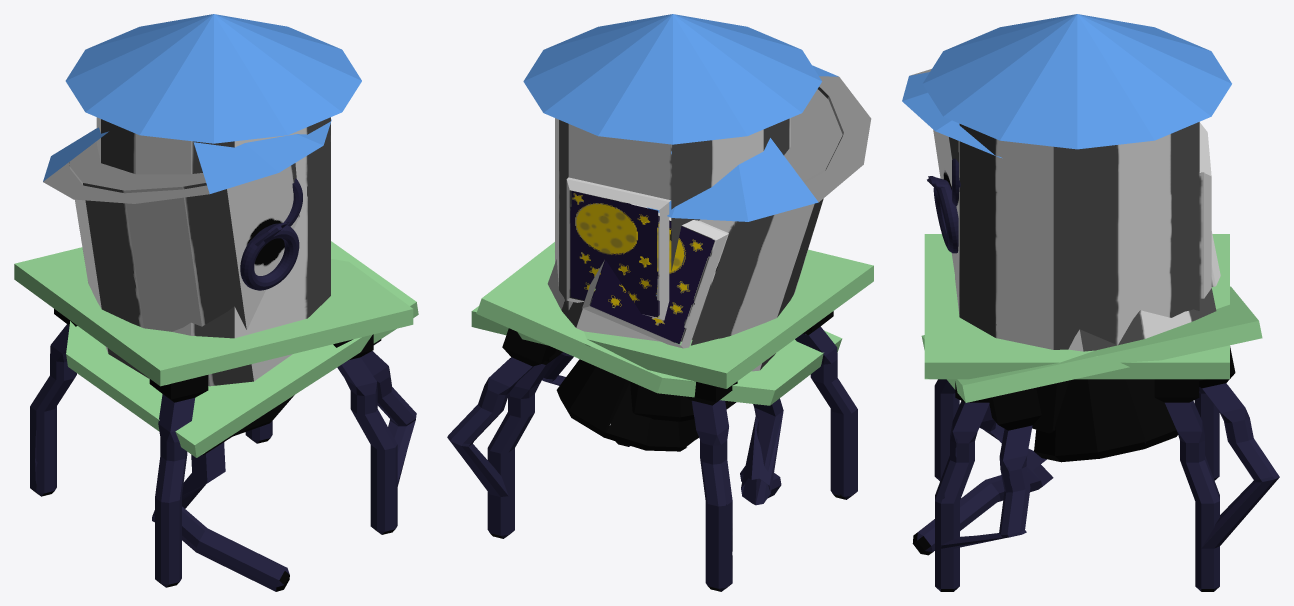
Rendered from Spaceship 1.fbx.
3 views of the same model, side by side, from view 1: azimuth 30°, elevation 25°; view 2: azimuth 150°, elevation 25°; view 3: azimuth 270°, elevation 25° (orthographic). The views are drawn at different scales.
Visible parts, largest first — view 1: Spaceship, SpaceshipDestroyed; view 2: Spaceship, SpaceshipDestroyed; view 3: Spaceship, SpaceshipDestroyed.
Boxes of the visible parts, bbox=[...] form: Spaceship: bbox=[14, 14, 413, 587]; SpaceshipDestroyed: bbox=[43, 119, 418, 591]; Spaceship: bbox=[471, 14, 873, 591]; SpaceshipDestroyed: bbox=[447, 65, 871, 535]; Spaceship: bbox=[922, 14, 1231, 591]; SpaceshipDestroyed: bbox=[902, 69, 1279, 588].
Size of the model in its own units: 324 by 482 by 303.
